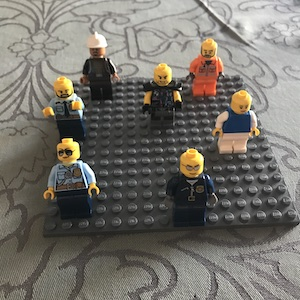Lego: (164, 148, 219, 226), (45, 138, 99, 217), (213, 92, 259, 155), (43, 76, 86, 141), (83, 33, 120, 98), (143, 64, 180, 129), (188, 38, 222, 96)
